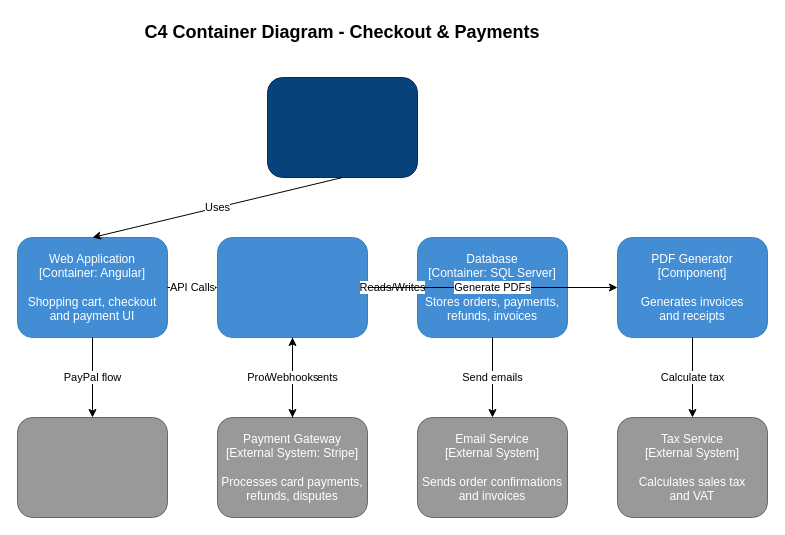
Some shapes in this 785 by 535 pixel diagram are drawn without their labels. Here are the shapes that lost their labels. From the top down, the box of each, then its label:
(266, 76, 418, 178): User [Person] A customer purchasing courses on the platform
(216, 236, 368, 338): API Application [Container: ASP.NET Core] Payment processing, order management
(16, 416, 168, 518): PayPal [External System] Alternative payment processing
